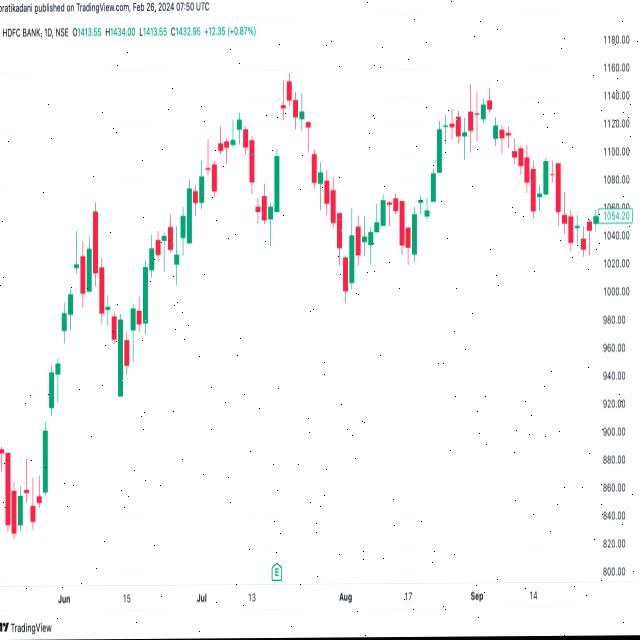Gap Down: (247, 130, 260, 235), (486, 88, 499, 160)
Gap Up: (271, 69, 287, 225), (38, 371, 56, 505), (54, 296, 66, 416), (212, 130, 224, 211)
